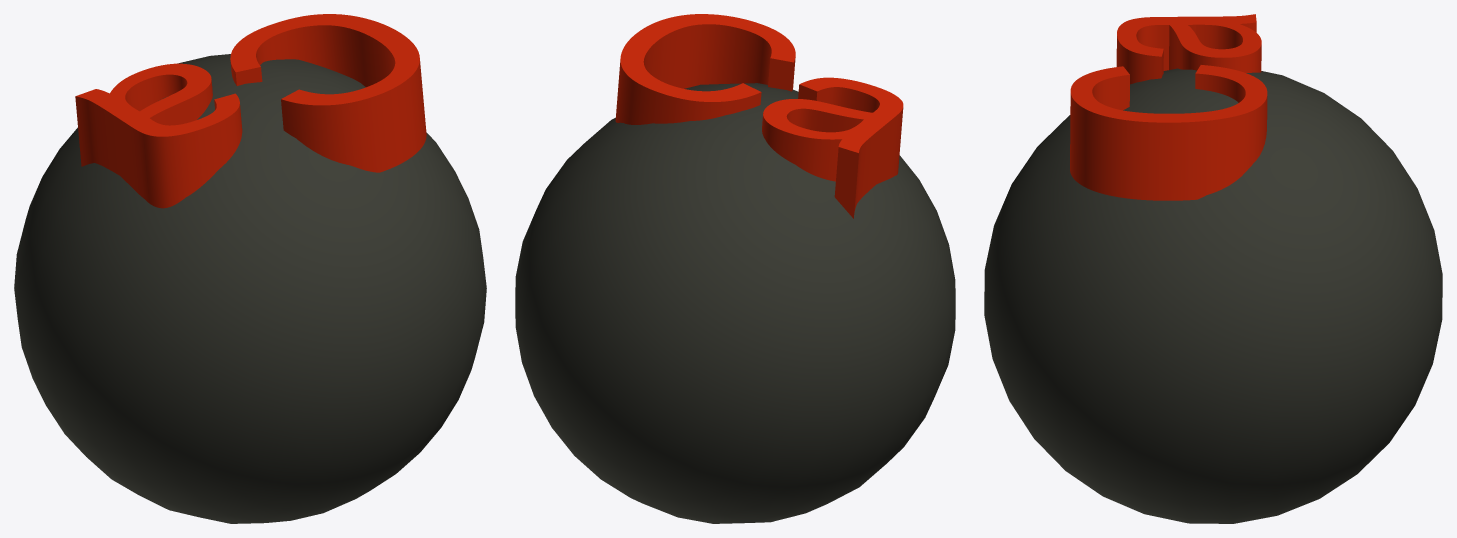
3 views of the same model, side by side, from view 1: azimuth 30°, elevation 25°; view 2: azimuth 150°, elevation 25°; view 3: azimuth 270°, elevation 25° (orthographic). The views are drawn at different scales.
Visible parts, largest first — view 1: Ca; view 2: Ca; view 3: Ca.
Boxes of the visible parts, x1,y1,x2,y2 form: Ca: [14, 14, 486, 523]; Ca: [515, 14, 955, 523]; Ca: [984, 14, 1442, 523].
Size of the model in its own units: 38.64 by 40.96 by 38.6.
